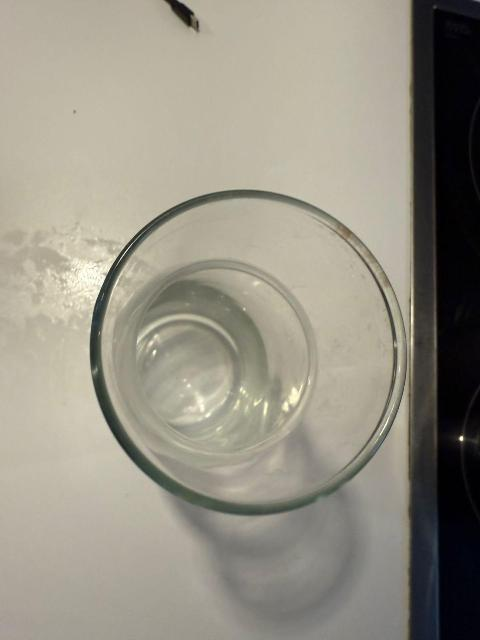Cam: (80, 189, 411, 515)
